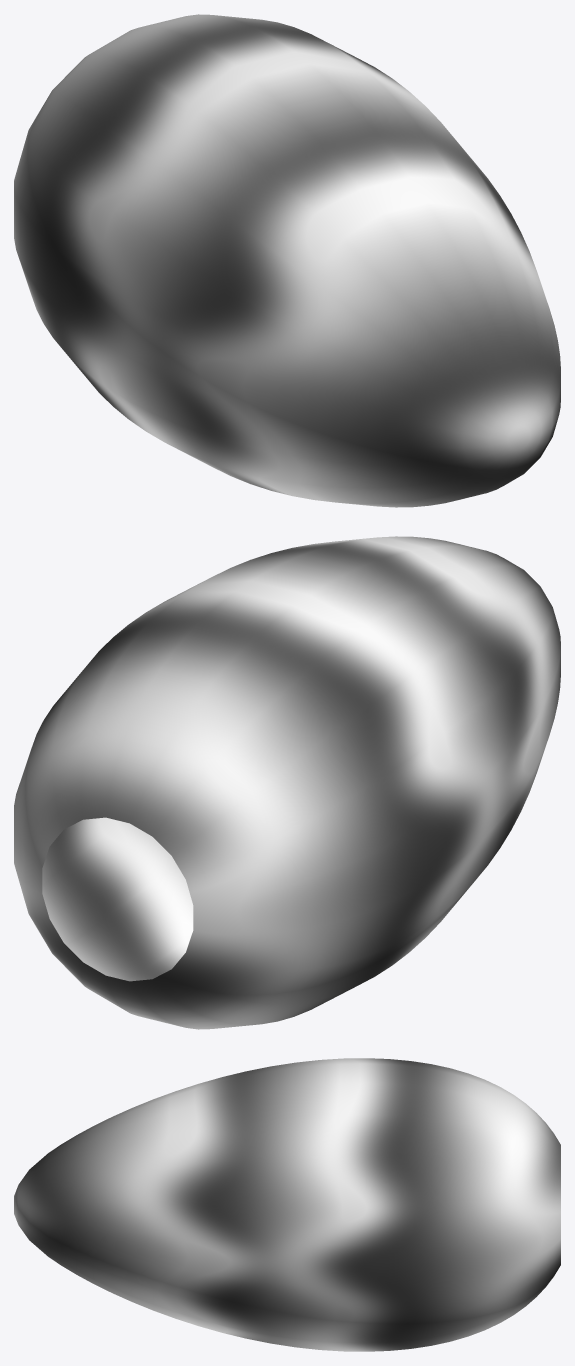
Rendered from Fire_Bullet_Enemy_2.fbx.
3 renders of one model, top to bottom at view 1: azimuth 30°, elevation 25°; view 2: azimuth 150°, elevation 25°; view 3: azimuth 270°, elevation 25°, orthographic. The views are drawn at different scales.
Parts seen in each view (by area): view 1: Fire_Bullet_2; view 2: Fire_Bullet_2; view 3: Fire_Bullet_2.
Boxes of the visible parts, x1=… form: Fire_Bullet_2: x1=14, y1=14, x2=560, y2=507; Fire_Bullet_2: x1=14, y1=536, x2=560, y2=1029; Fire_Bullet_2: x1=14, y1=1058, x2=560, y2=1351.
Bounding box in the file's own units: 181 × 181 × 341.
1 material, 1 textured.
